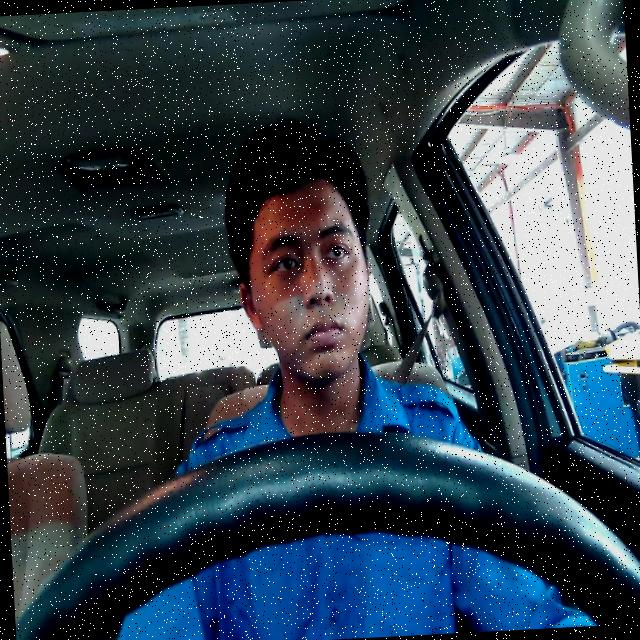focused: (232, 178, 373, 388)
